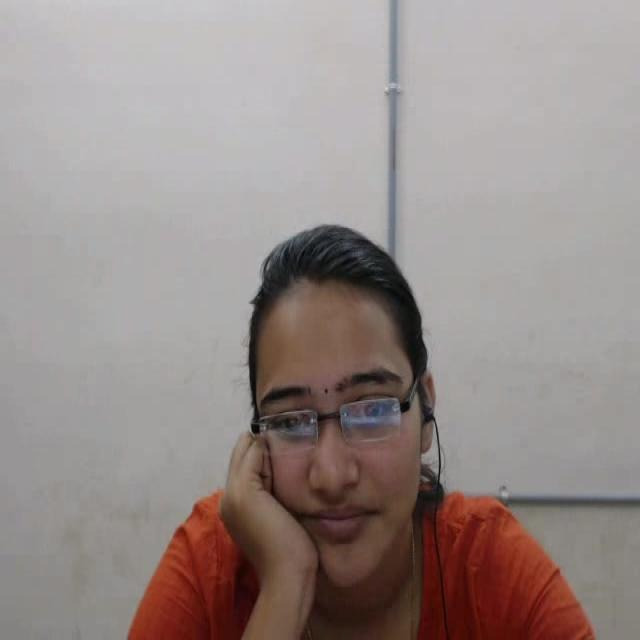Bored: (165, 180, 513, 640)
